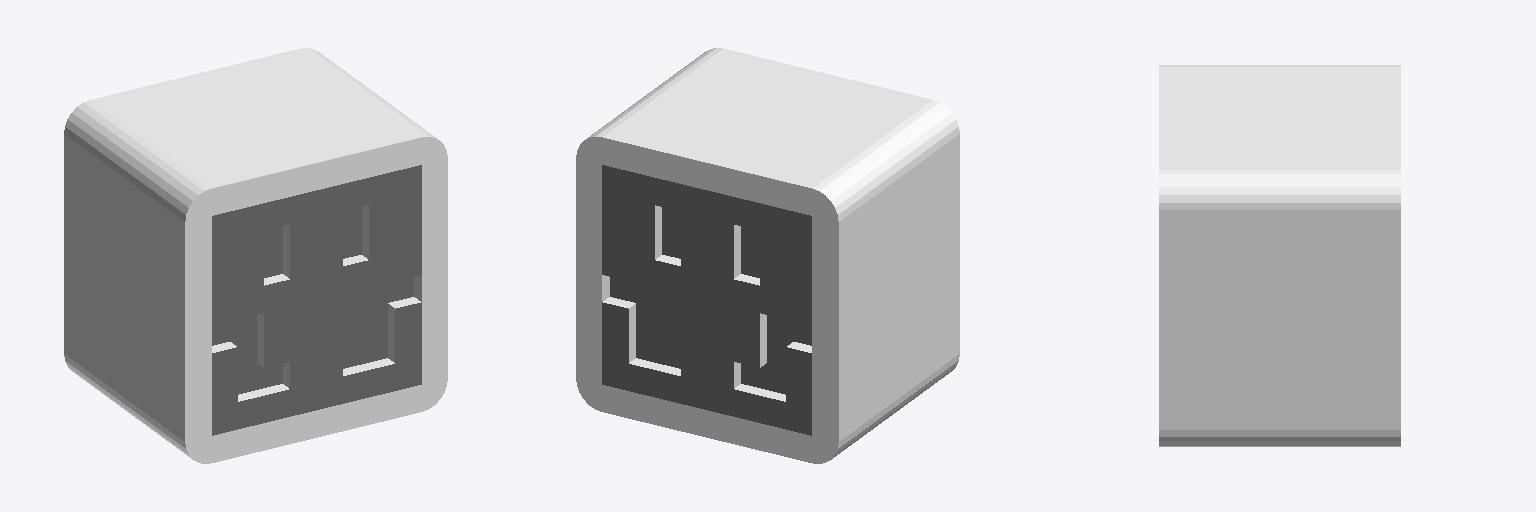
The picture shows the model from 3 angles: view 1: azimuth 30°, elevation 25°; view 2: azimuth 150°, elevation 25°; view 3: azimuth 270°, elevation 25°; orthographic projection.
Bounding box in the file's own units: 10 × 10 × 8.
1 materials, 1 textured.